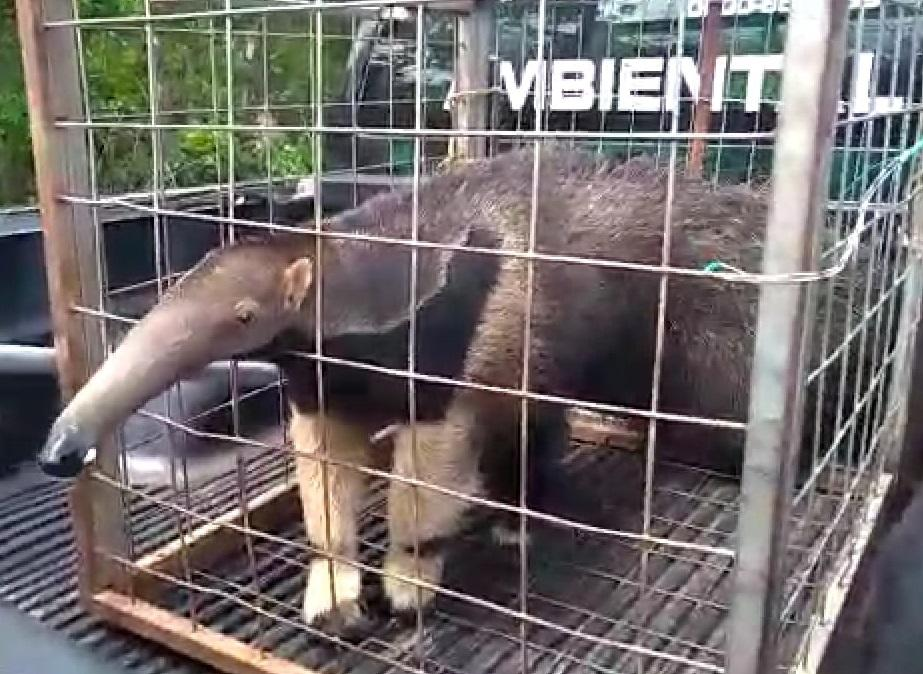TamanduaBandeira: (23, 148, 876, 634)
